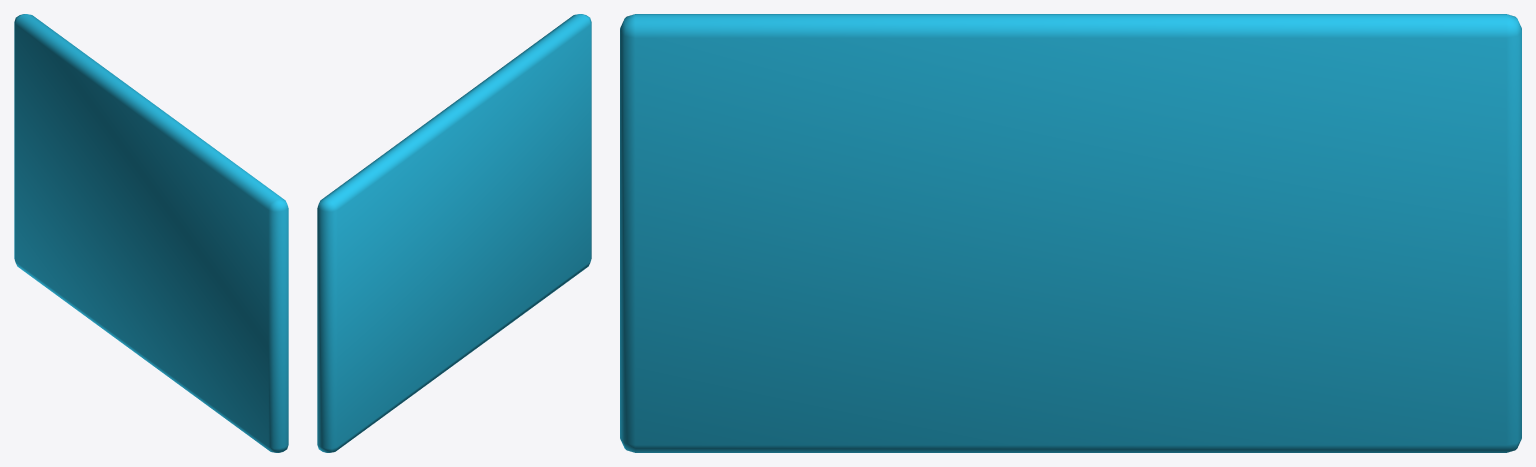
Rendered from GEO_HATCHBACK_Door_Front_R.glb.
3 renders of one model, left to right at view 1: azimuth 30°, elevation 25°; view 2: azimuth 150°, elevation 25°; view 3: azimuth 270°, elevation 25°, orthographic. The views are drawn at different scales.
Parts seen in each view (by area): view 1: GEO_HATCHBACK_Door_Front_R; view 2: GEO_HATCHBACK_Door_Front_R; view 3: GEO_HATCHBACK_Door_Front_R.
Part boxes in pixels (x1=…): GEO_HATCHBACK_Door_Front_R: x1=14, y1=14, x2=288, y2=452; GEO_HATCHBACK_Door_Front_R: x1=317, y1=14, x2=591, y2=452; GEO_HATCHBACK_Door_Front_R: x1=620, y1=14, x2=1521, y2=452.
Bounding box in the file's own units: 0.05 × 0.624 × 1.17.
